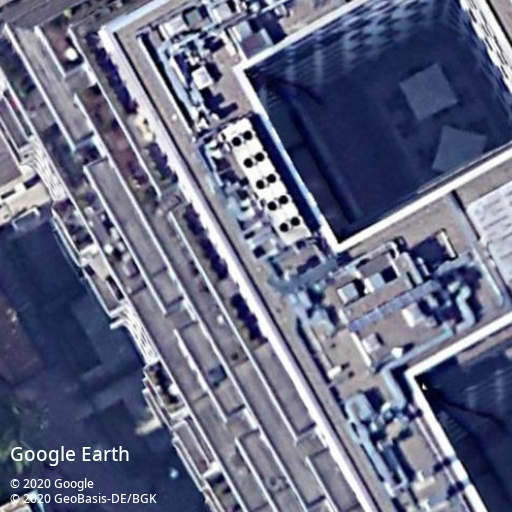Chiller: (223, 117, 310, 246)
